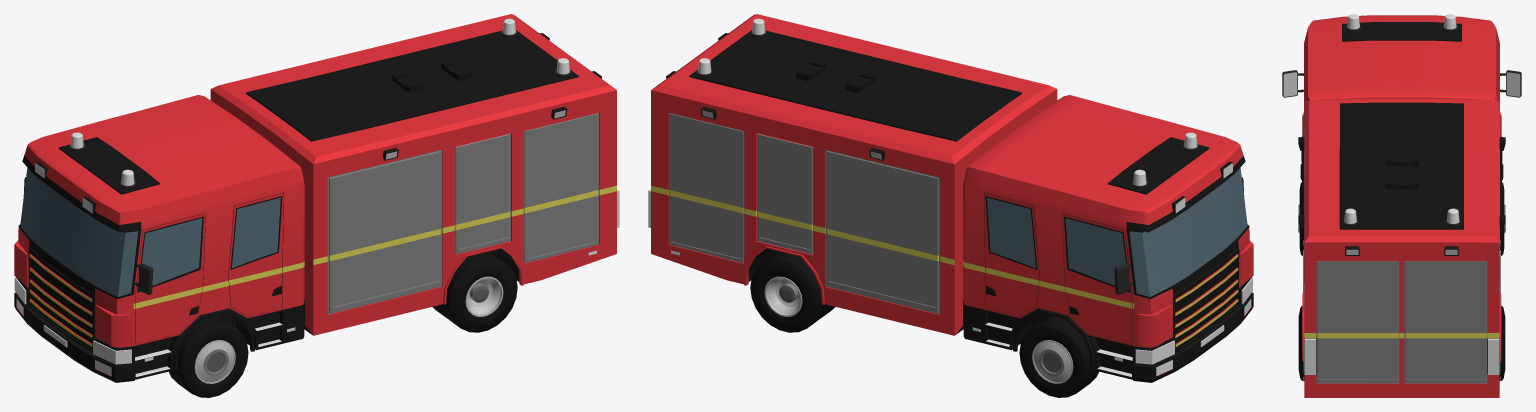
File: LowPolyFiretruck.fbx
The picture shows the model from 3 angles, left to right: view 1: azimuth 30°, elevation 25°; view 2: azimuth 150°, elevation 25°; view 3: azimuth 270°, elevation 25°; orthographic projection. The views are drawn at different scales.
Visible parts, largest first — view 1: FireTruckLow; view 2: FireTruckLow; view 3: FireTruckLow.
Boxes of the visible parts, left/top/right/bottom form: FireTruckLow: left=14, top=14, right=619, bottom=397; FireTruckLow: left=648, top=14, right=1253, bottom=397; FireTruckLow: left=1282, top=14, right=1521, bottom=397.
Bounding box in the file's own units: 728 × 305 × 307.
